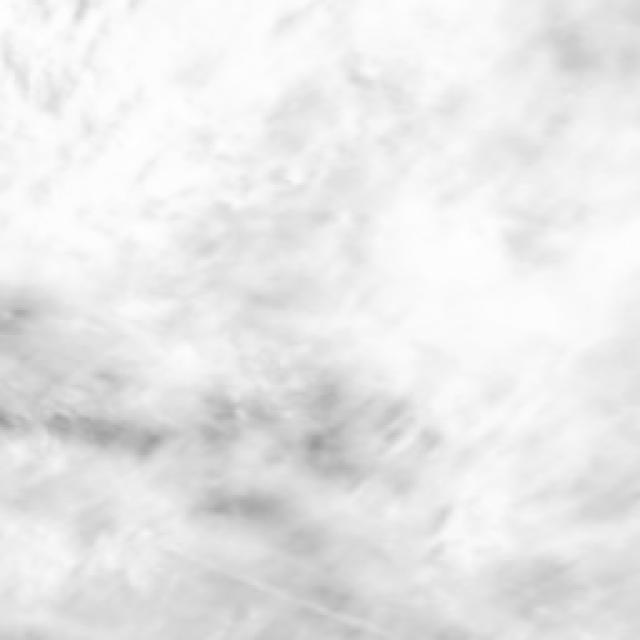CB: (418, 199, 627, 386), (50, 2, 289, 137)
